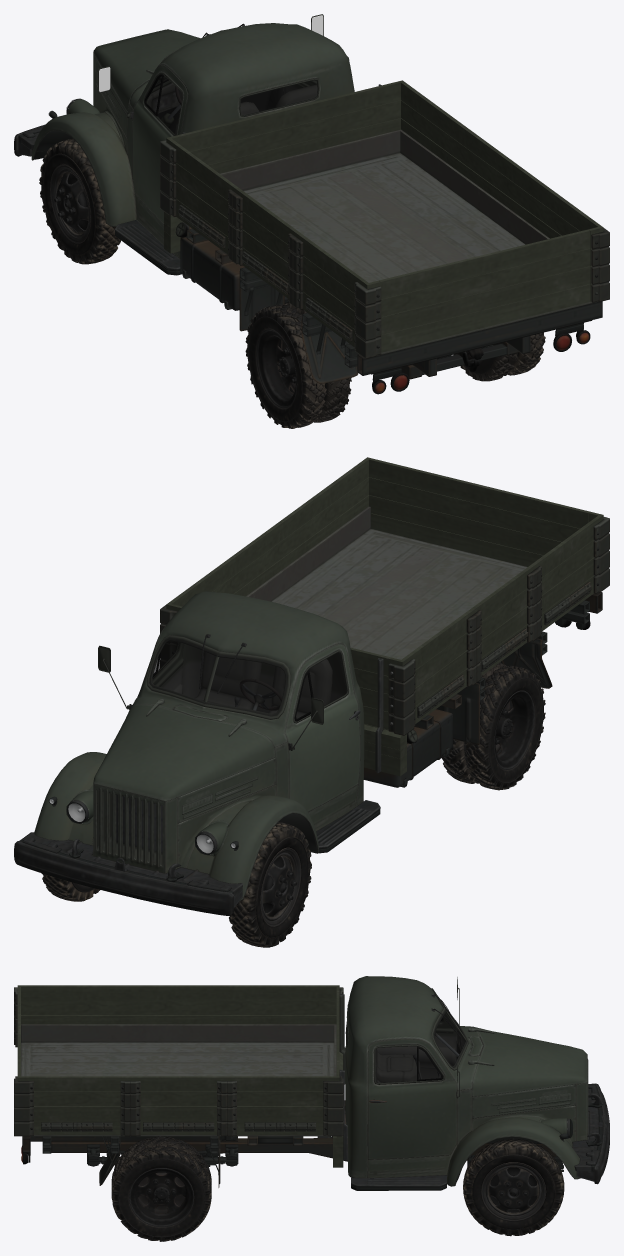
File: gaz_51.glb
3 views of the same model, one above another, from view 1: azimuth 30°, elevation 25°; view 2: azimuth 150°, elevation 25°; view 3: azimuth 270°, elevation 25° (orthographic). The views are drawn at different scales.
Parts seen in each view (by area): view 1: Object_5, Object_11, Object_4, Object_8, Object_10, Object_6, Object_12, Object_7; view 2: Object_5, Object_11, Object_4, Object_12, Object_8, Object_10, Object_9; view 3: Object_5, Object_11, Object_4, Object_6, Object_7, Object_9, Object_12.
Boxes of the visible parts, x1,y1,x2,y2 form: Object_5: (14, 14, 602, 394); Object_11: (164, 80, 603, 355); Object_4: (170, 129, 603, 301); Object_8: (245, 302, 351, 428); Object_10: (39, 138, 120, 264); Object_6: (175, 84, 609, 379); Object_12: (48, 75, 317, 134); Object_7: (453, 332, 545, 381); Object_5: (14, 517, 609, 915); Object_11: (166, 457, 603, 775); Object_4: (166, 461, 589, 776); Object_12: (48, 641, 347, 855); Object_8: (441, 662, 545, 790); Object_10: (229, 822, 311, 947); Object_9: (41, 873, 99, 901); Object_5: (14, 976, 609, 1190); Object_11: (17, 985, 343, 1167); Object_4: (21, 1024, 336, 1076); Object_6: (14, 1069, 556, 1178); Object_7: (111, 1136, 211, 1241); Object_9: (463, 1138, 564, 1236); Object_12: (346, 1002, 572, 1138).
Bounding box in the file's own units: 124 × 122 × 327.
Materials: 4 (2 with a texture image).
